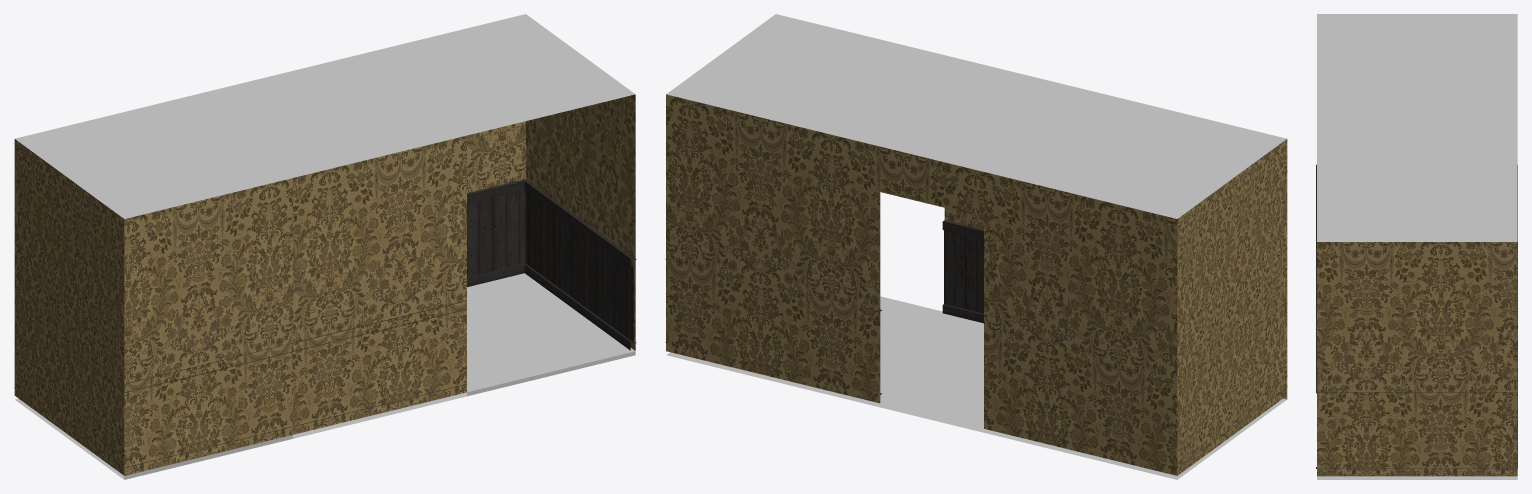
Rendered from Lobby_StairsTop.fbx.
The picture shows the model from 3 angles, left to right: view 1: azimuth 30°, elevation 25°; view 2: azimuth 150°, elevation 25°; view 3: azimuth 270°, elevation 25°; orthographic projection. The views are drawn at different scales.
Parts seen in each view (by area): view 1: Cube_004_NonePlan_014; view 2: Cube_004_NonePlan_014; view 3: Cube_004_NonePlan_014.
Part boxes in pixels (left/top/right/bottom): Cube_004_NonePlan_014: left=14, top=14, right=636, bottom=479; Cube_004_NonePlan_014: left=665, top=14, right=1287, bottom=479; Cube_004_NonePlan_014: left=1316, top=14, right=1517, bottom=479.
Size of the model in its own units: 25.05 by 12.19 by 9.37.
